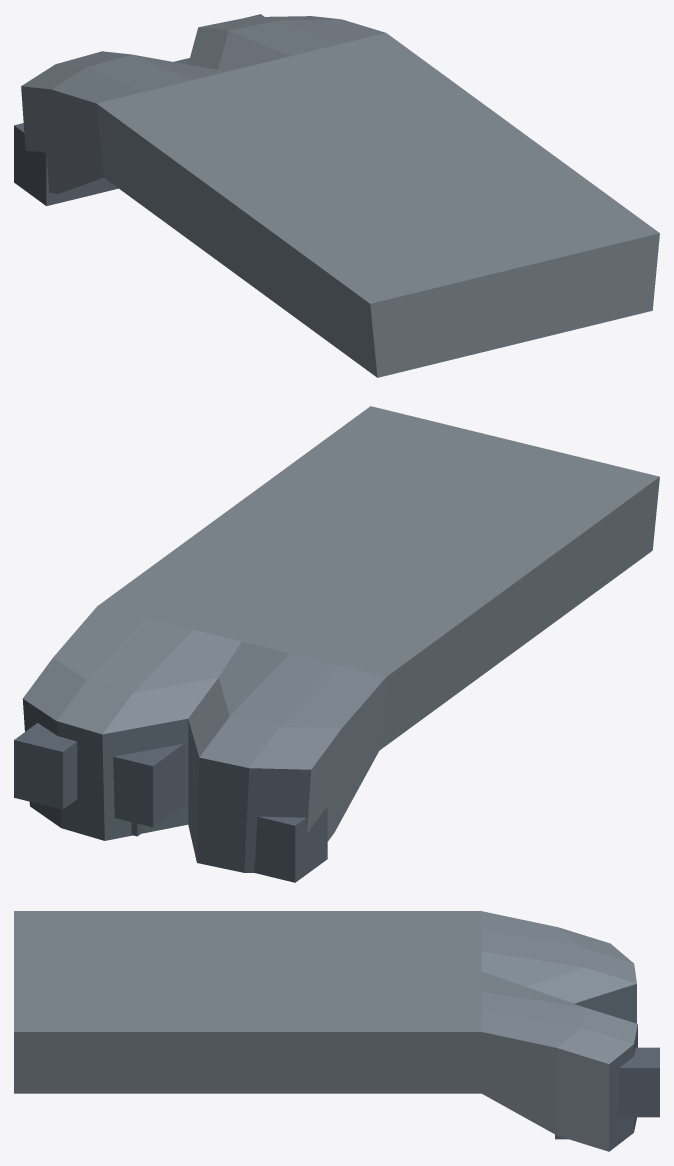
Rendered from bridge_deck_broken.glb.
The picture shows the model from 3 angles, top to bottom: view 1: azimuth 30°, elevation 25°; view 2: azimuth 150°, elevation 25°; view 3: azimuth 270°, elevation 25°; orthographic projection. The views are drawn at different scales.
Parts seen in each view (by area): view 1: Bridge_Deck_Broken; view 2: Bridge_Deck_Broken; view 3: Bridge_Deck_Broken.
Boxes of the visible parts, x1=… form: Bridge_Deck_Broken: x1=14, y1=14, x2=659, y2=377; Bridge_Deck_Broken: x1=14, y1=406, x2=659, y2=882; Bridge_Deck_Broken: x1=14, y1=911, x2=659, y2=1151.
Bounding box in the file's own units: 4 × 1.9 × 9.04.
